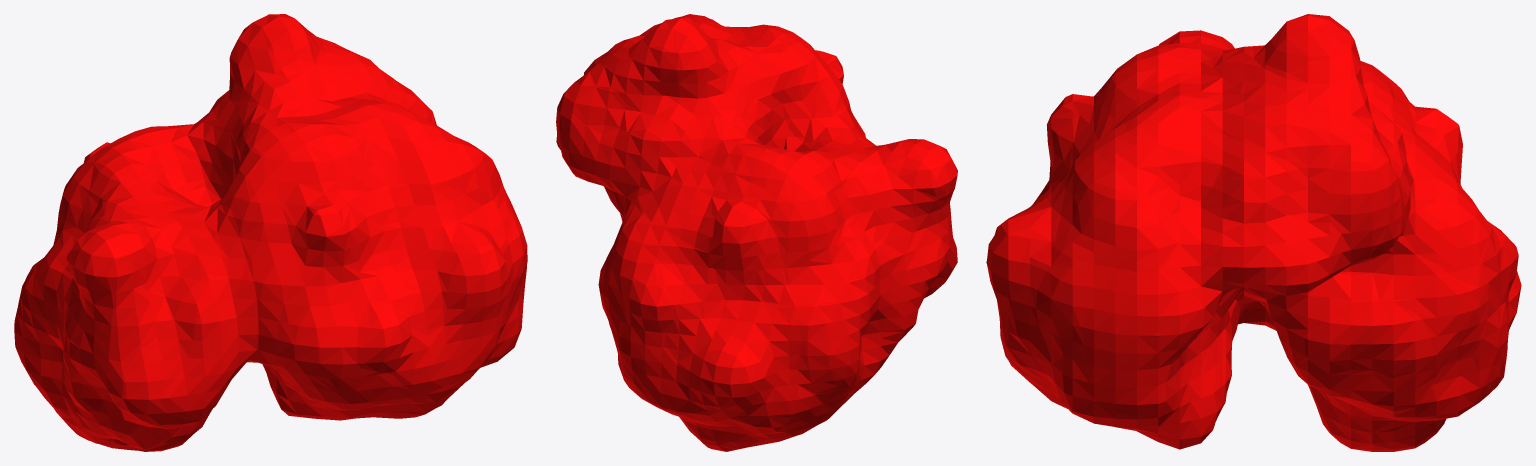
The model's file is dusC_coarse.dae.
3 views of the same model, side by side, from view 1: azimuth 30°, elevation 25°; view 2: azimuth 150°, elevation 25°; view 3: azimuth 270°, elevation 25° (orthographic). The views are drawn at different scales.
Visible parts, largest first — view 1: dusC; view 2: dusC; view 3: dusC.
Boxes of the visible parts, box(x1,y1,x2,y2) form: dusC: box(14, 14, 527, 451); dusC: box(556, 14, 957, 451); dusC: box(986, 14, 1521, 451).
Bounding box in the file's own units: 73.7 × 72.2 × 72.52.
